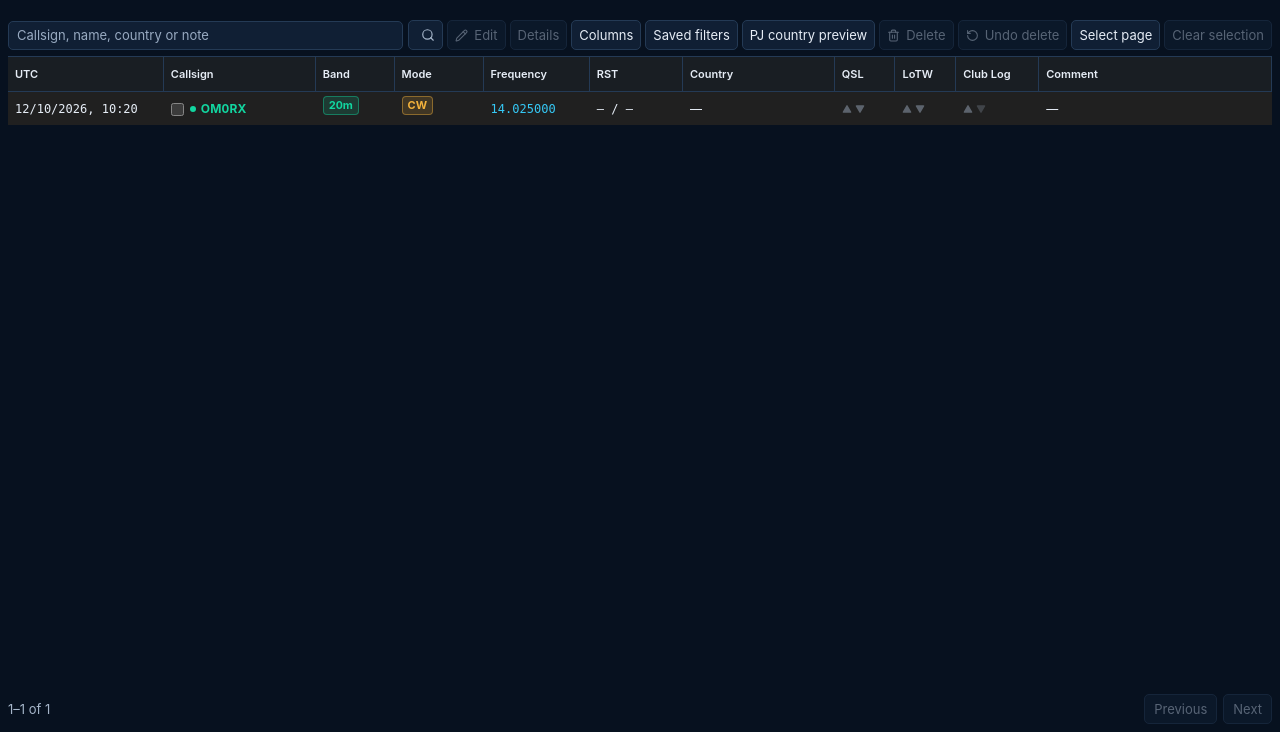
deletes the opened revision with confirmation and preserves table Undo delete
This screenshot has width=1280, height=732.
Click the text "OM0RX". click: click(240, 108)
box: [164,92,316,125]
(page scrolled)
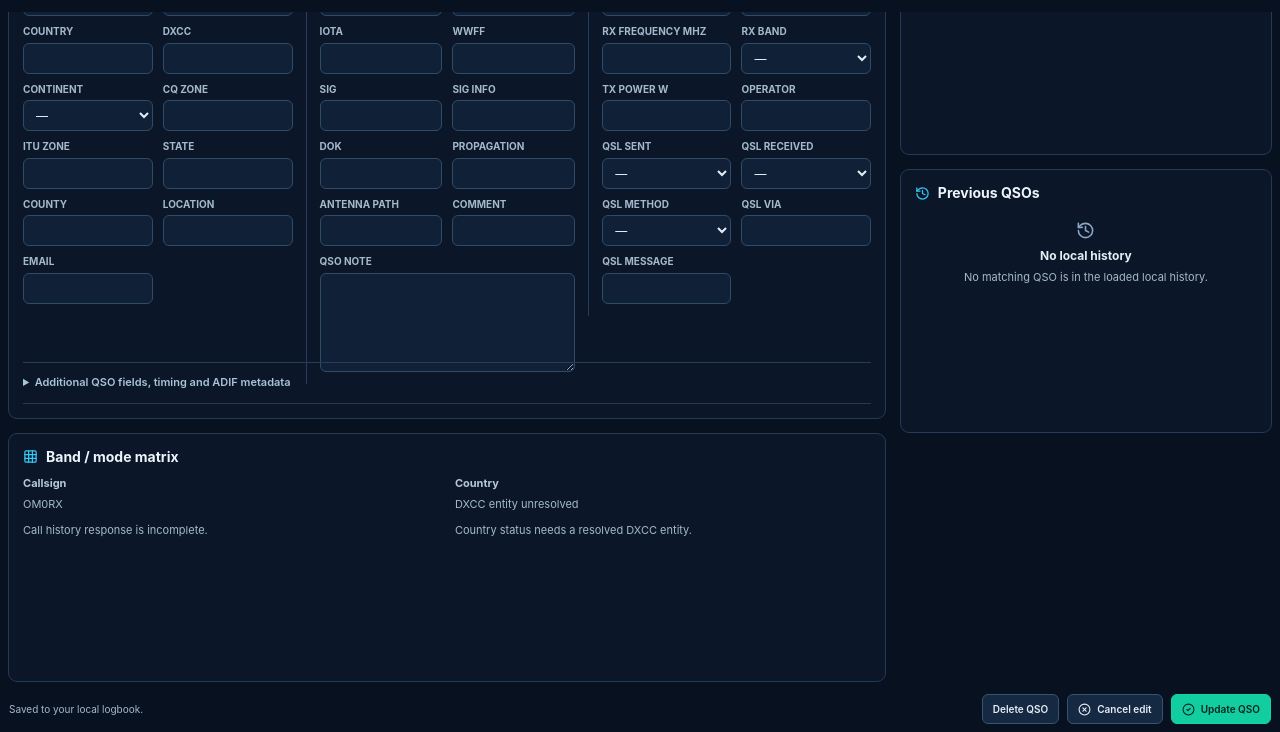
Click the button "Delete QSO". click: click(1021, 709)
box: [982,694,1059,724]
(page scrolled)
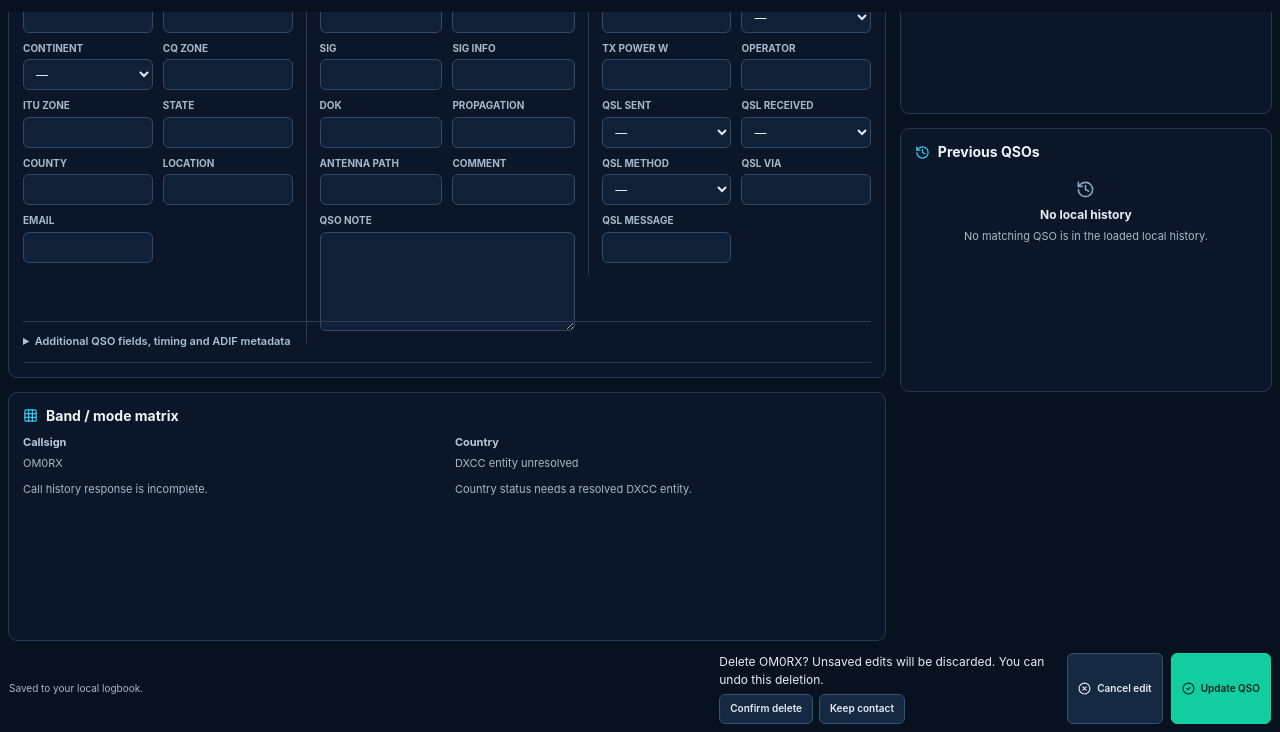
Click the button "Confirm delete". click: click(766, 709)
box: [719,694,813,724]
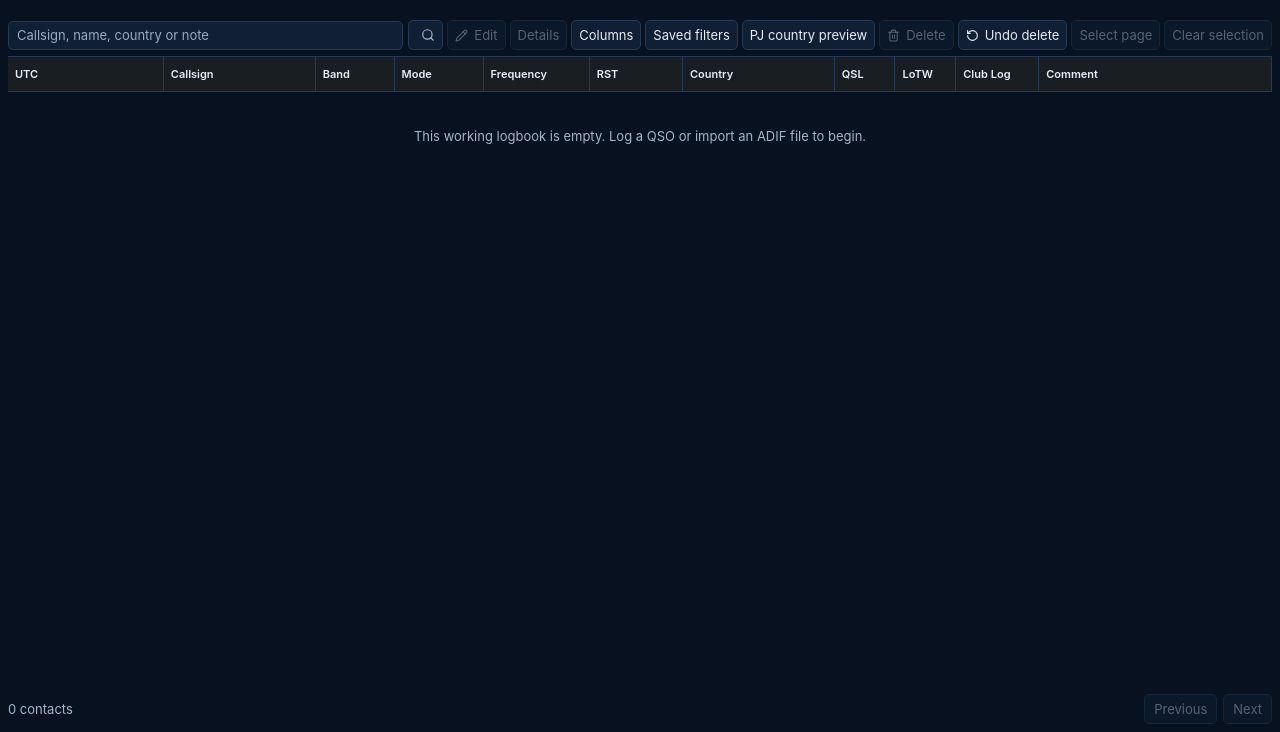
Check: the button named "Search" is shown, box [408,20,443,50]
Click the button "Undo delete". click: click(1012, 35)
box: [958,20,1067,50]
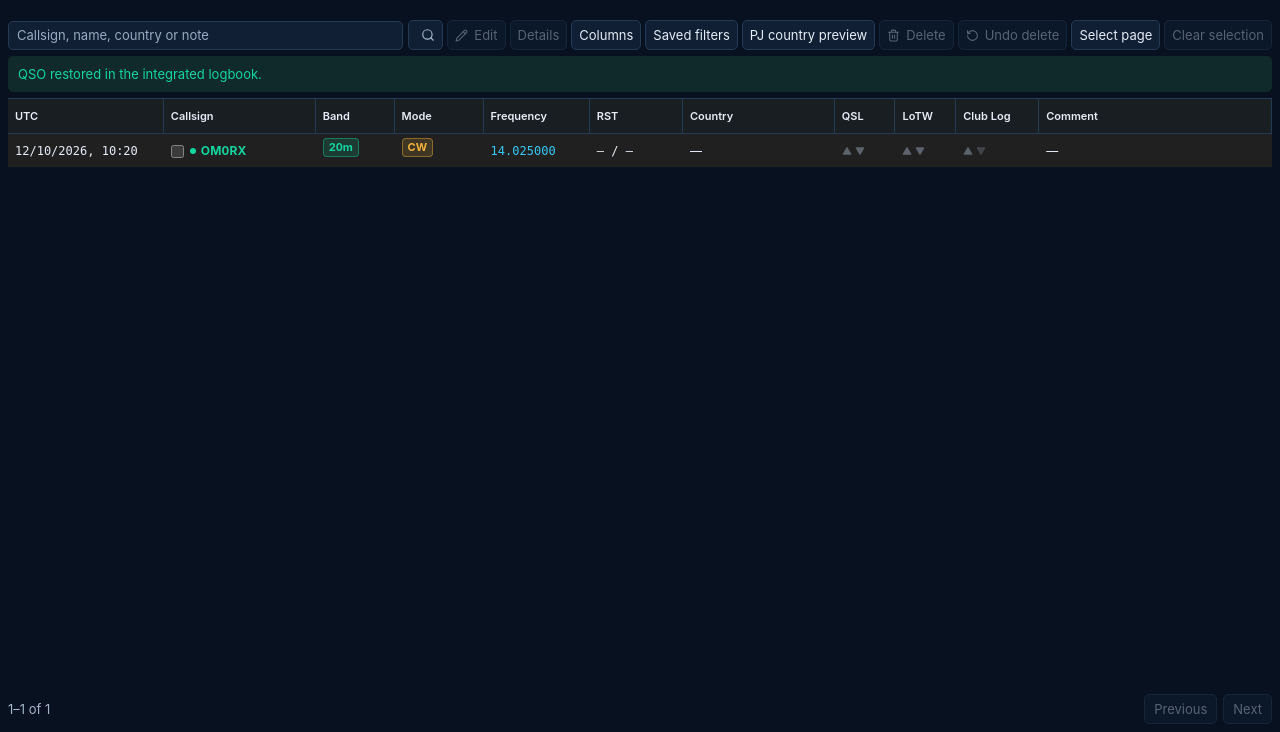
Check: the text "OM0RX" is shown, box [164,134,316,167]
